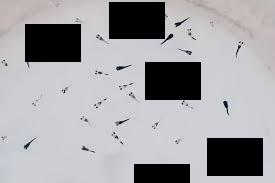fish: (17, 130, 42, 155), (55, 75, 80, 100), (217, 94, 238, 121), (28, 92, 48, 113), (92, 31, 113, 50), (23, 48, 38, 73), (158, 28, 175, 50), (113, 62, 138, 75)
